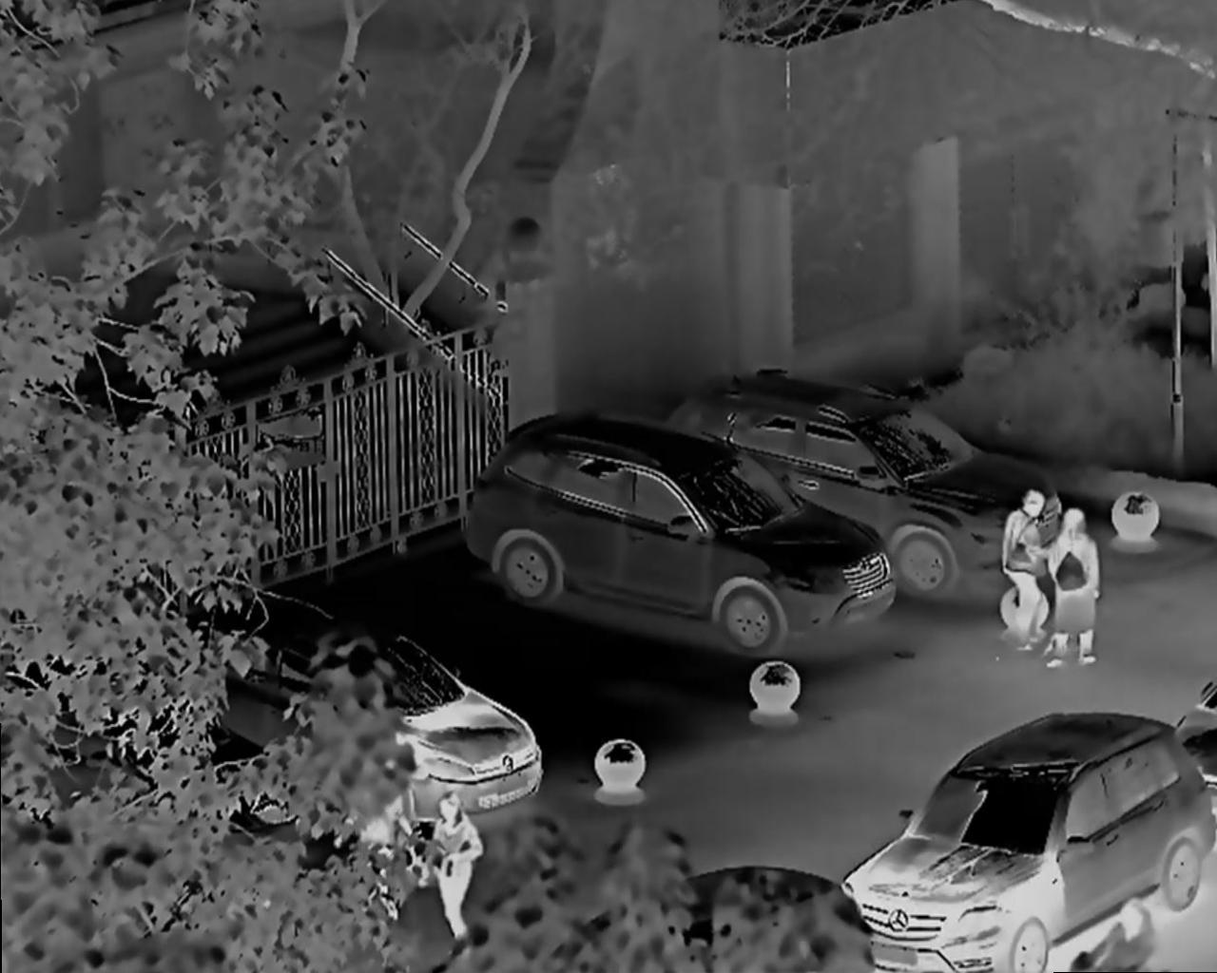person: (1053, 503, 1109, 685), (430, 792, 483, 939), (1002, 484, 1039, 659)
